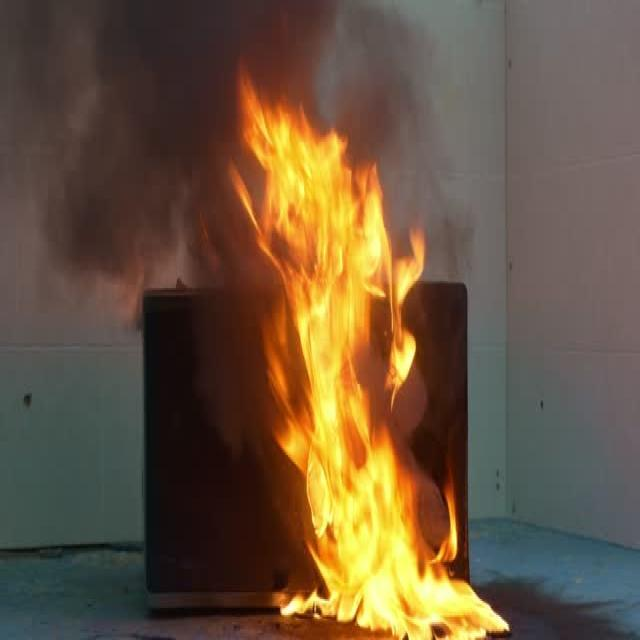Fire: (303, 289, 433, 640), (252, 113, 388, 270)
